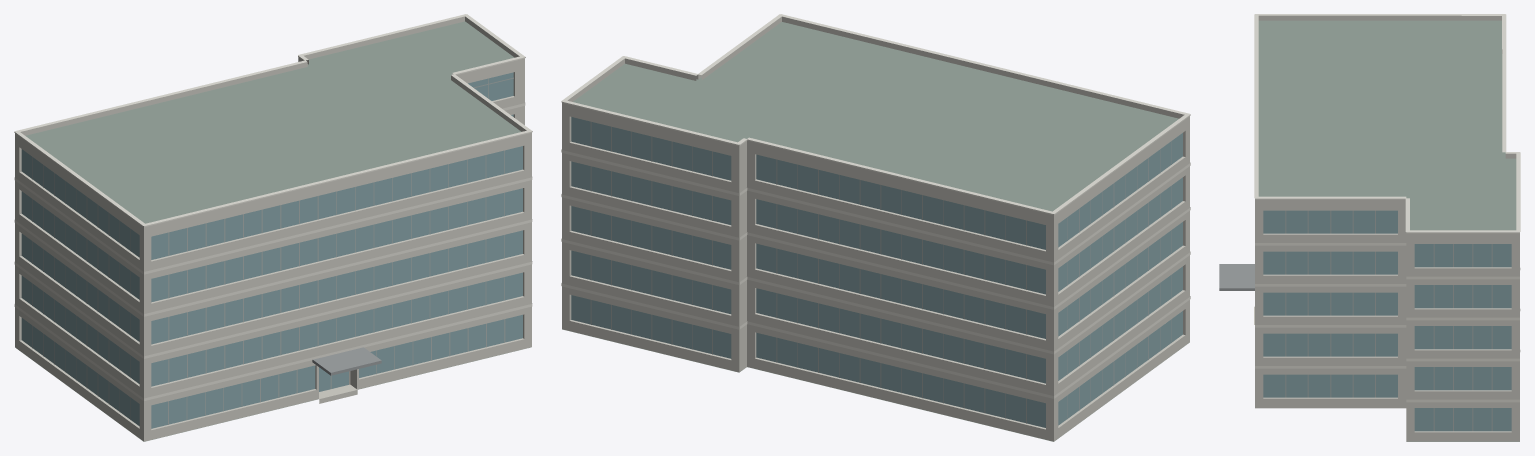
The picture shows the model from 3 angles, left to right: view 1: azimuth 30°, elevation 25°; view 2: azimuth 150°, elevation 25°; view 3: azimuth 270°, elevation 25°; orthographic projection. The views are drawn at different scales.
Parts seen in each view (by area): view 1: clinical-lab__glass, clinical-lab__wall, clinical-lab__roof, clinical-lab__trim, clinical-lab__parapet, clinical-lab__frame, clinical-lab__canopy; view 2: clinical-lab__glass, clinical-lab__wall, clinical-lab__roof, clinical-lab__trim, clinical-lab__parapet, clinical-lab__frame; view 3: clinical-lab__roof, clinical-lab__glass, clinical-lab__wall, clinical-lab__trim, clinical-lab__parapet, clinical-lab__frame, clinical-lab__canopy.
Boxes of the visible parts, bbox=[...] form: clinical-lab__glass: bbox=[21, 72, 522, 428]; clinical-lab__wall: bbox=[15, 60, 531, 441]; clinical-lab__roof: bbox=[16, 21, 530, 441]; clinical-lab__trim: bbox=[14, 14, 532, 400]; clinical-lab__parapet: bbox=[15, 16, 531, 230]; clinical-lab__frame: bbox=[32, 77, 513, 424]; clinical-lab__canopy: bbox=[312, 347, 381, 375]; clinical-lab__glass: bbox=[571, 117, 1182, 427]; clinical-lab__wall: bbox=[562, 106, 1189, 441]; clinical-lab__roof: bbox=[562, 22, 1189, 441]; clinical-lab__trim: bbox=[561, 14, 1190, 398]; clinical-lab__parapet: bbox=[562, 16, 1189, 218]; clinical-lab__frame: bbox=[590, 121, 1171, 423]; clinical-lab__roof: bbox=[1258, 20, 1519, 441]; clinical-lab__glass: bbox=[1263, 210, 1511, 431]; clinical-lab__wall: bbox=[1255, 203, 1519, 441]; clinical-lab__trim: bbox=[1254, 14, 1520, 402]; clinical-lab__parapet: bbox=[1255, 15, 1519, 236]; clinical-lab__frame: bbox=[1285, 210, 1492, 431]; clinical-lab__canopy: bbox=[1219, 264, 1254, 290].
Bounding box in the file's own units: 43.37 × 19.85 × 25.31.
